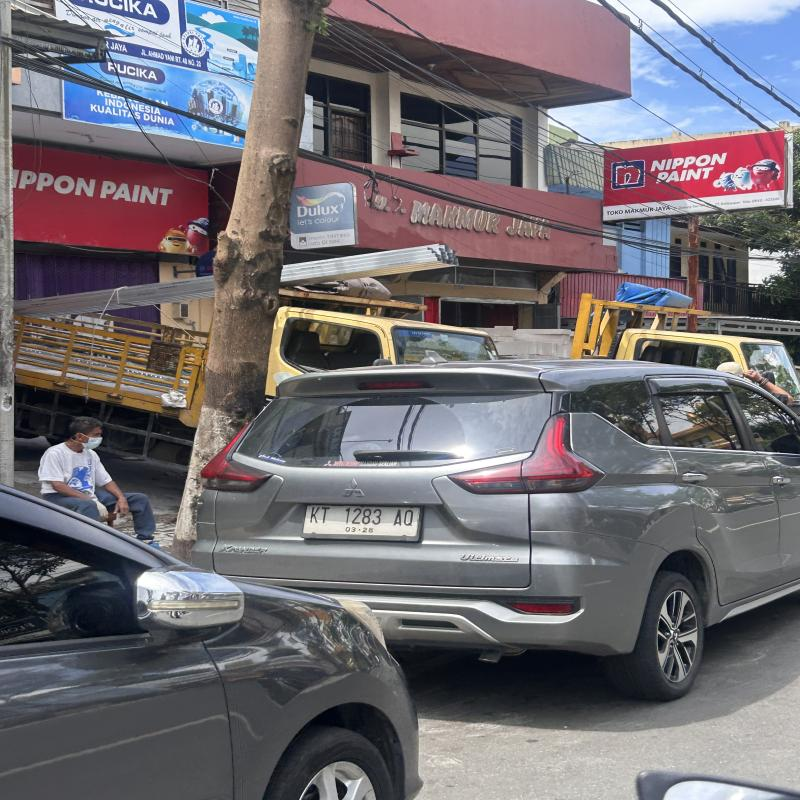license plate on a car: (301, 504, 421, 537)
